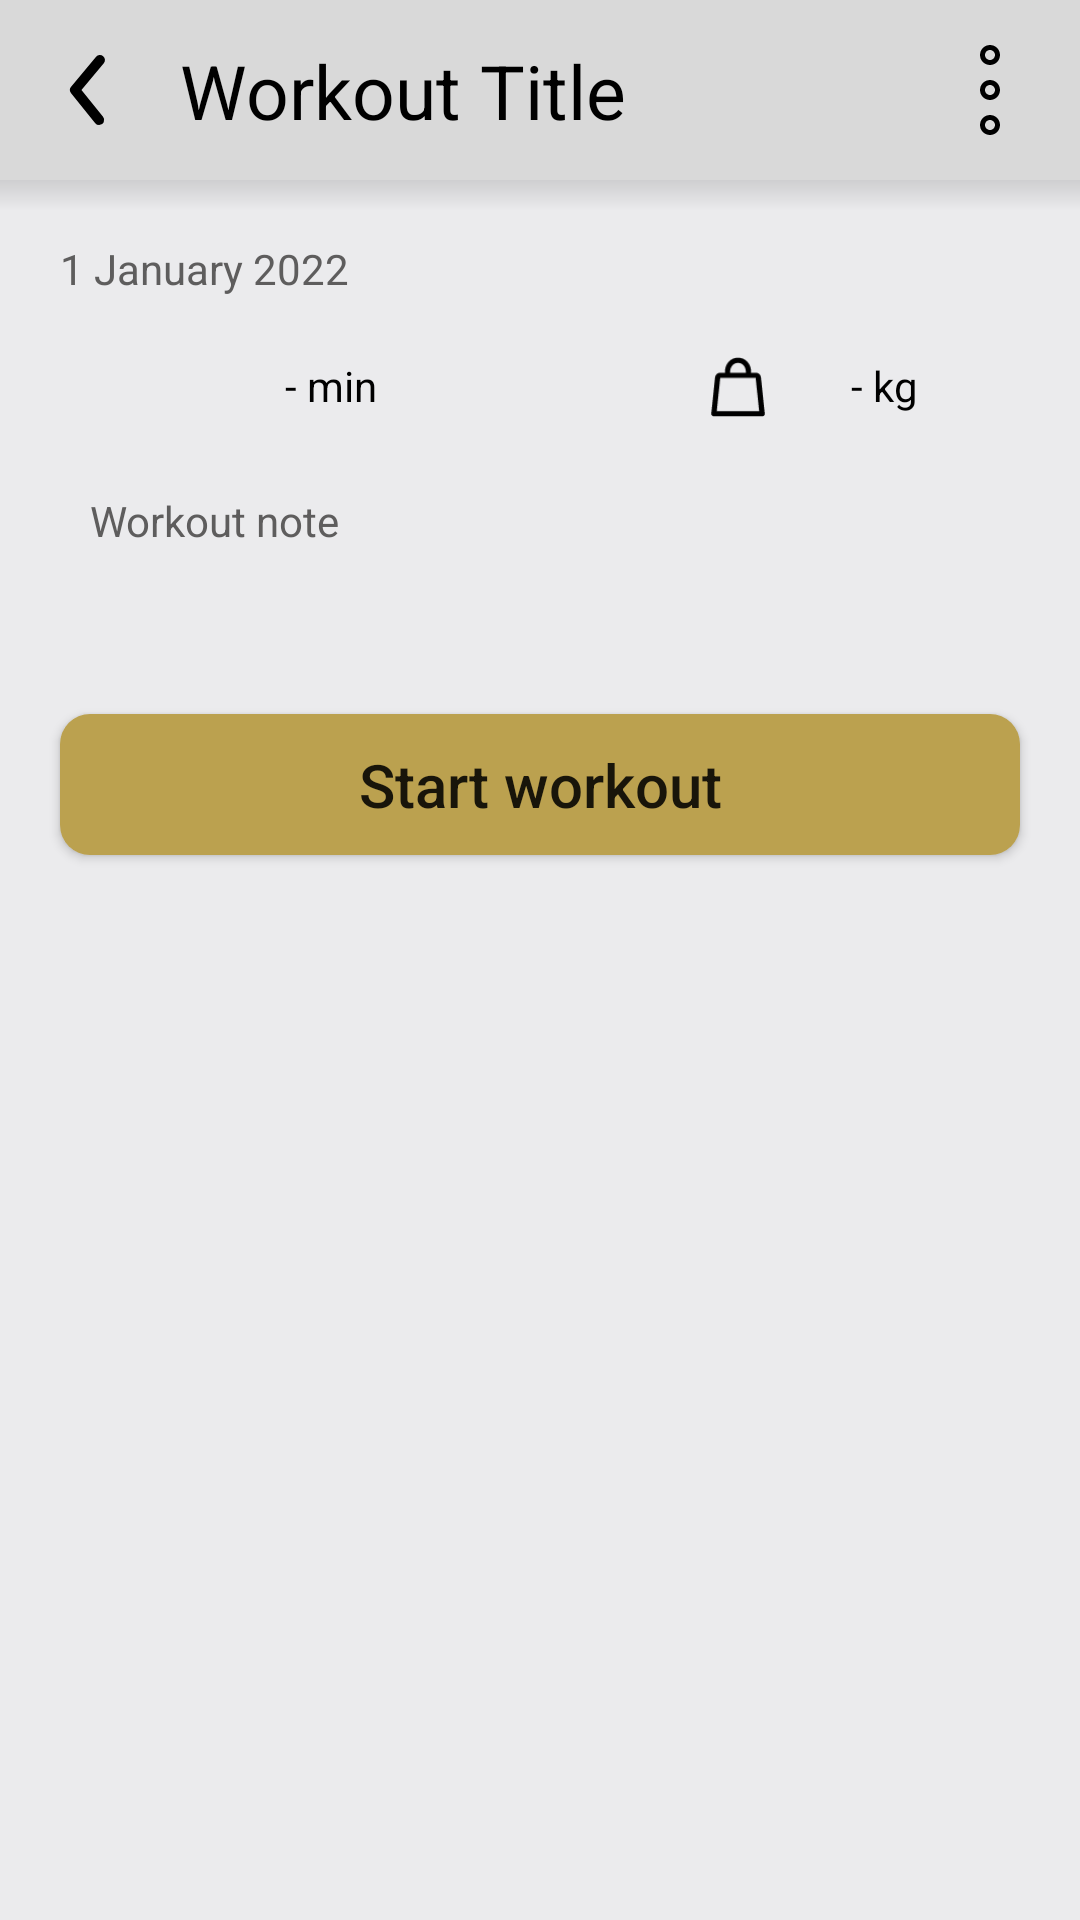

Named icons in this screenshot (1080x1920) and their centers, [x,y]:
back arrow: [87,90]
menu: [990,90]
weight: [738,387]
